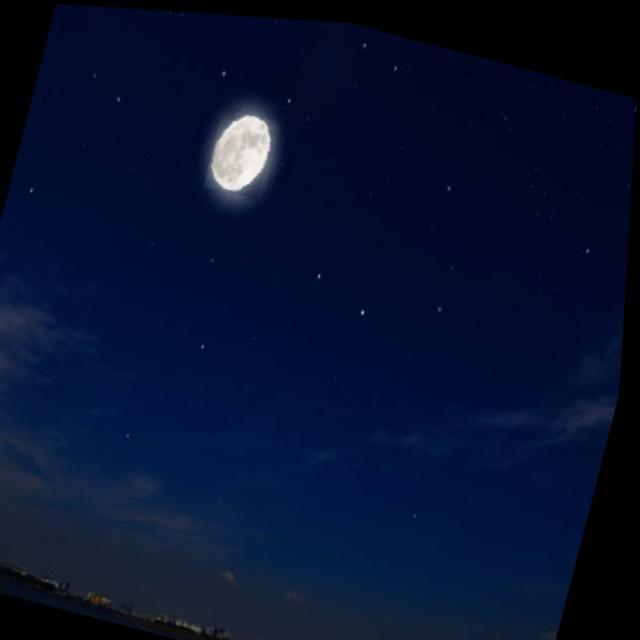moon: (205, 102, 282, 200)
